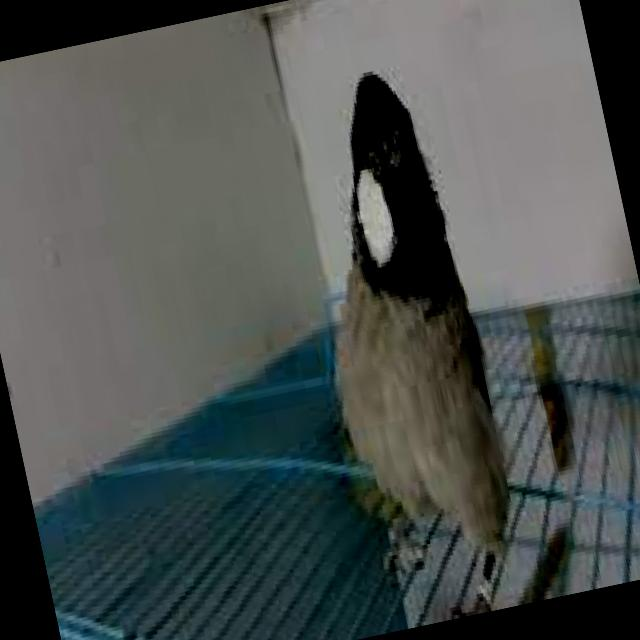bird: (256, 47, 543, 636)
